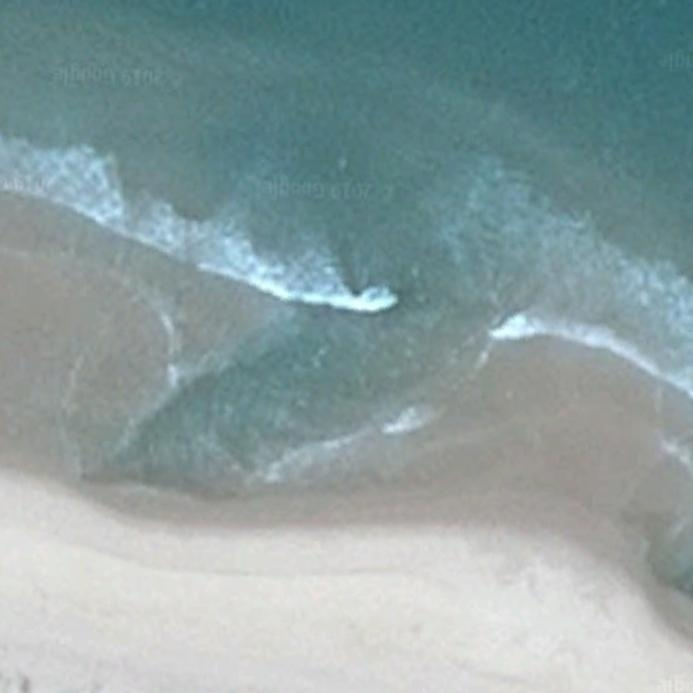rip_current: (159, 60, 538, 494)
